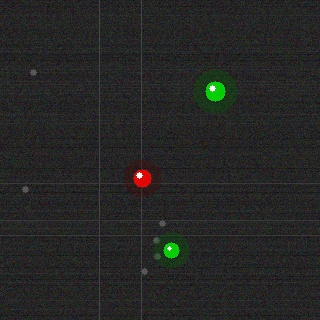green_normal: (203, 79, 227, 103), (161, 240, 181, 260)
red_fault: (131, 167, 153, 189)
